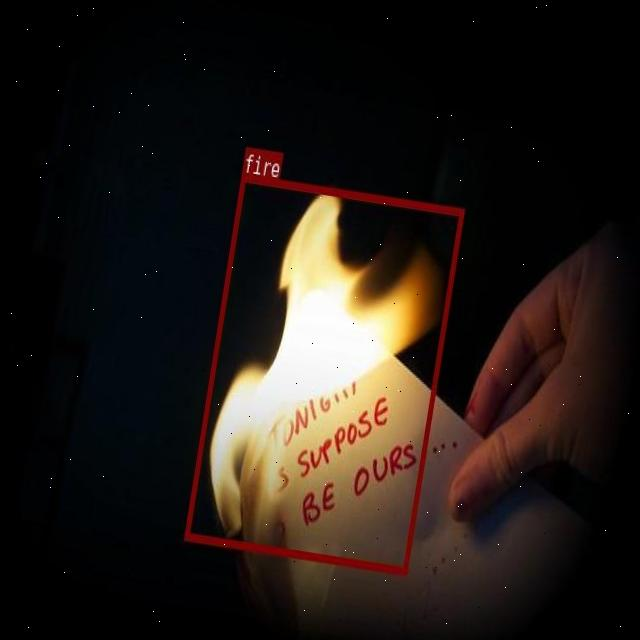fire: (184, 173, 463, 574)
